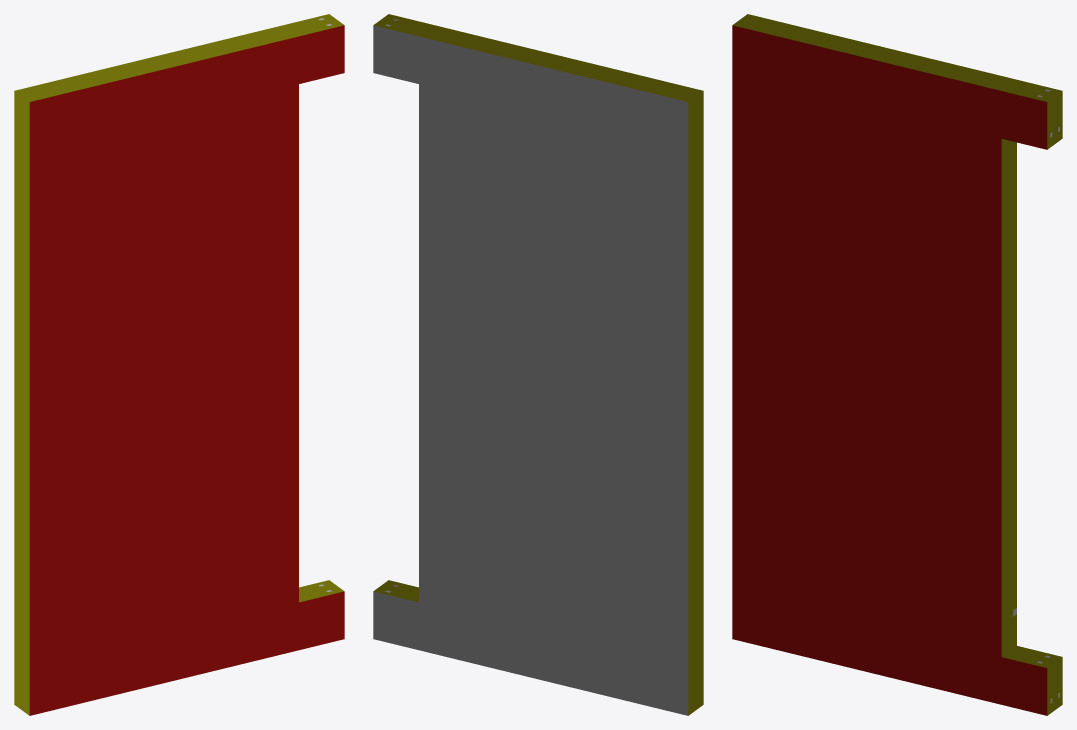
File: idf.obj
The picture shows the model from 3 angles, left to right: view 1: azimuth 30°, elevation 25°; view 2: azimuth 150°, elevation 25°; view 3: azimuth 330°, elevation 25°; orthographic projection.
Size of the model in its own units: 126 by 235 by 10.69.
